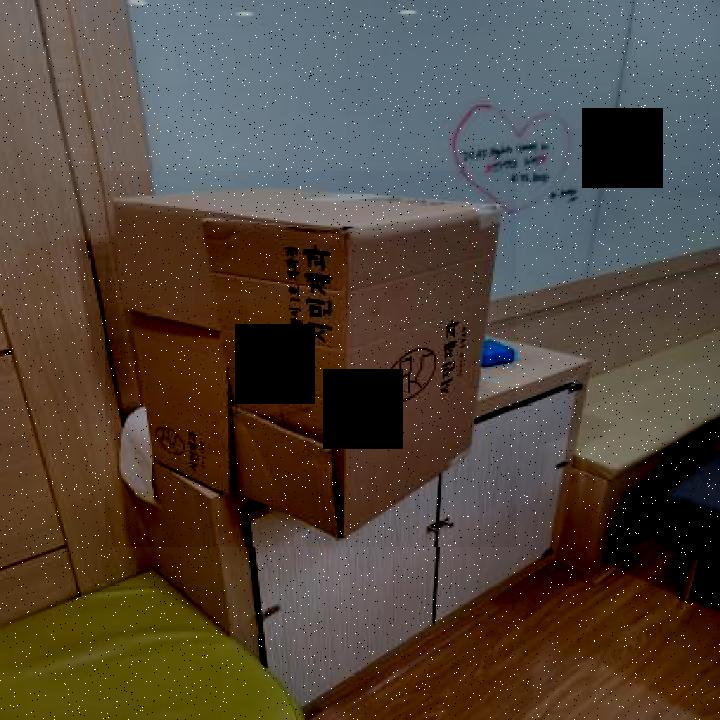box: (106, 171, 518, 547)
